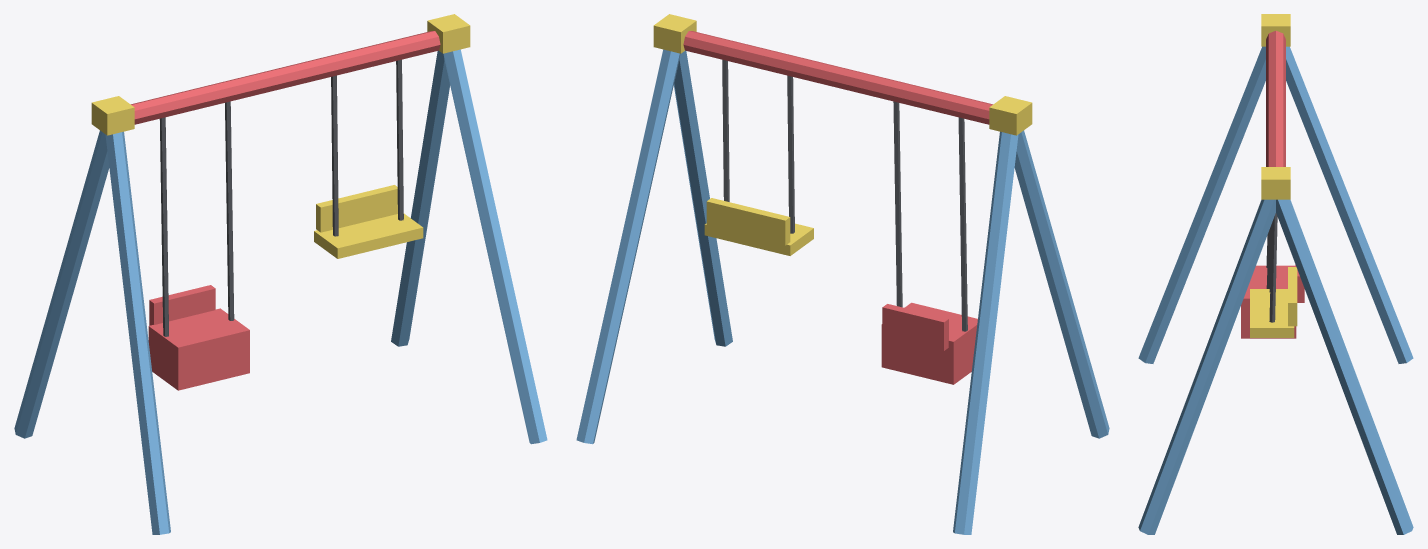
File: lawn-mowing-simulator-kit-kids-swing-set-ba3dfbb0__27414.glb
3 renders of one model, left to right at view 1: azimuth 30°, elevation 25°; view 2: azimuth 150°, elevation 25°; view 3: azimuth 270°, elevation 25°, orthographic. The views are drawn at different scales.
Parts seen in each view (by area): view 1: kids-swing-set, swing-seat/yellow, swing-seat/dark; view 2: kids-swing-set, swing-seat/yellow, swing-seat/dark; view 3: kids-swing-set, swing-seat/yellow, swing-seat/dark.
Boxes of the visible parts, left/top/right/bottom form: kids-swing-set: left=14, top=14, right=547, bottom=534; swing-seat/yellow: left=314, top=185, right=423, bottom=258; swing-seat/dark: left=331, top=59, right=403, bottom=236; kids-swing-set: left=576, top=14, right=1109, bottom=534; swing-seat/yellow: left=704, top=198, right=813, bottom=255; swing-seat/dark: left=722, top=59, right=794, bottom=233; kids-swing-set: left=1138, top=14, right=1413, bottom=534; swing-seat/yellow: left=1250, top=267, right=1297, bottom=337; swing-seat/dark: left=1269, top=213, right=1277, bottom=322.
Size of the model in its own units: 2.3 by 2.09 by 1.49.
